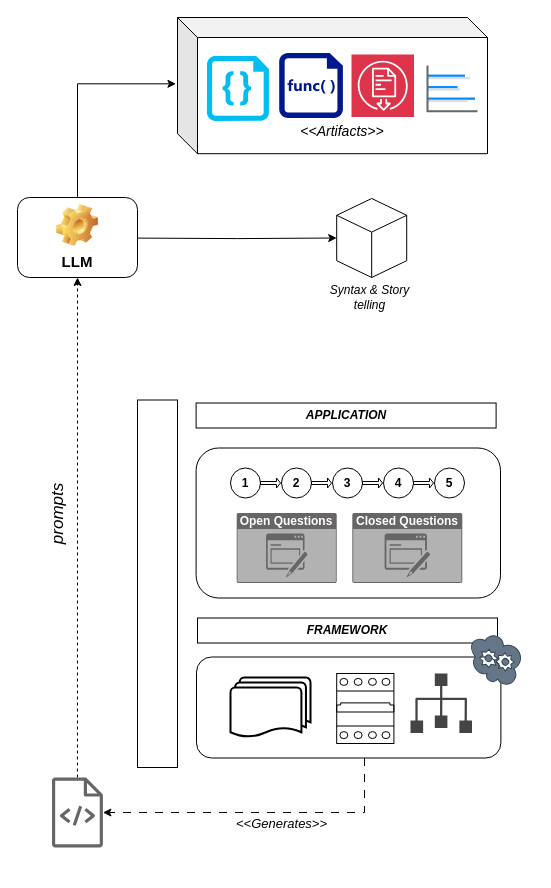
This 551x888 diagram has some shape labels left out. The shapes that lost their labels are listed below. From the top down, each one's centre as x and y in pixels, then its label:
the point at 157,583: APIs
the point at 76,812: Boilerplate
